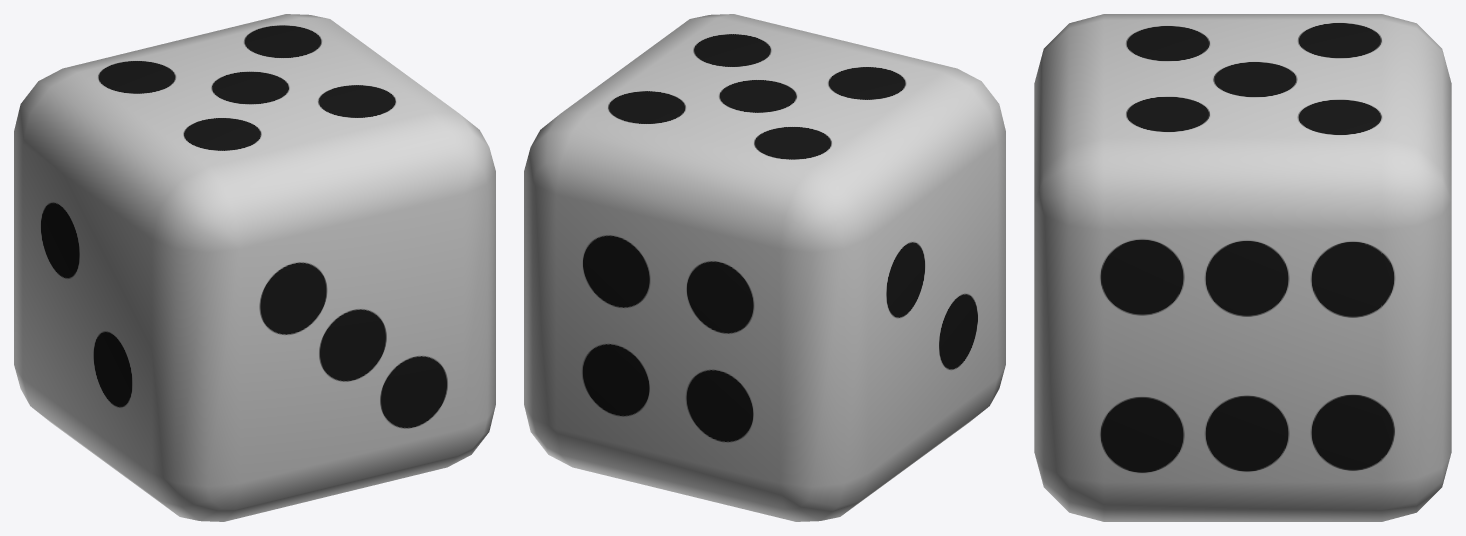
File: Dice.FBX
The picture shows the model from 3 angles, left to right: view 1: azimuth 30°, elevation 25°; view 2: azimuth 150°, elevation 25°; view 3: azimuth 270°, elevation 25°; orthographic projection. The views are drawn at different scales.
Parts seen in each view (by area): view 1: Dice; view 2: Dice; view 3: Dice.
Boxes of the visible parts, x1,y1,x2,y2 form: Dice: (14,14,495,521); Dice: (524,14,1005,521); Dice: (1034,14,1451,521).
Bounding box in the file's own units: 30 × 30 × 30.
1 material, 1 textured.
